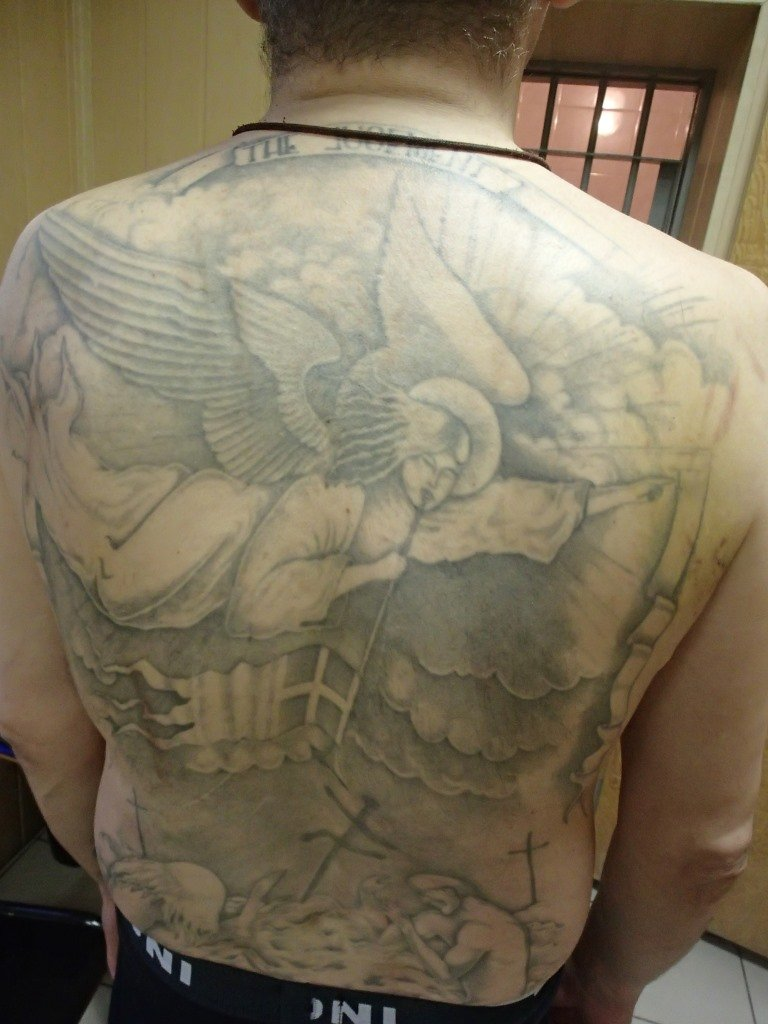tatu1_angel: (38, 173, 670, 647)
tatu3_bukva: (211, 128, 566, 192)
tatu9_krest: (286, 765, 386, 920), (498, 825, 563, 913), (114, 777, 164, 860)
